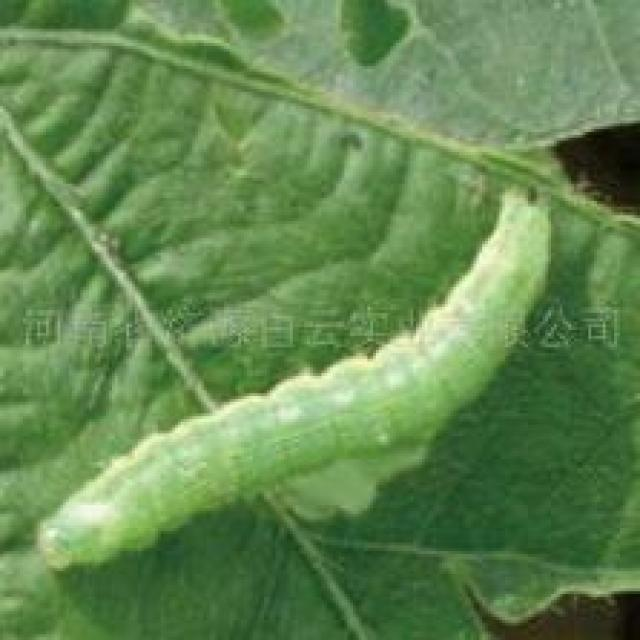BeetArmyWorm-Larva-: (34, 184, 564, 578)
